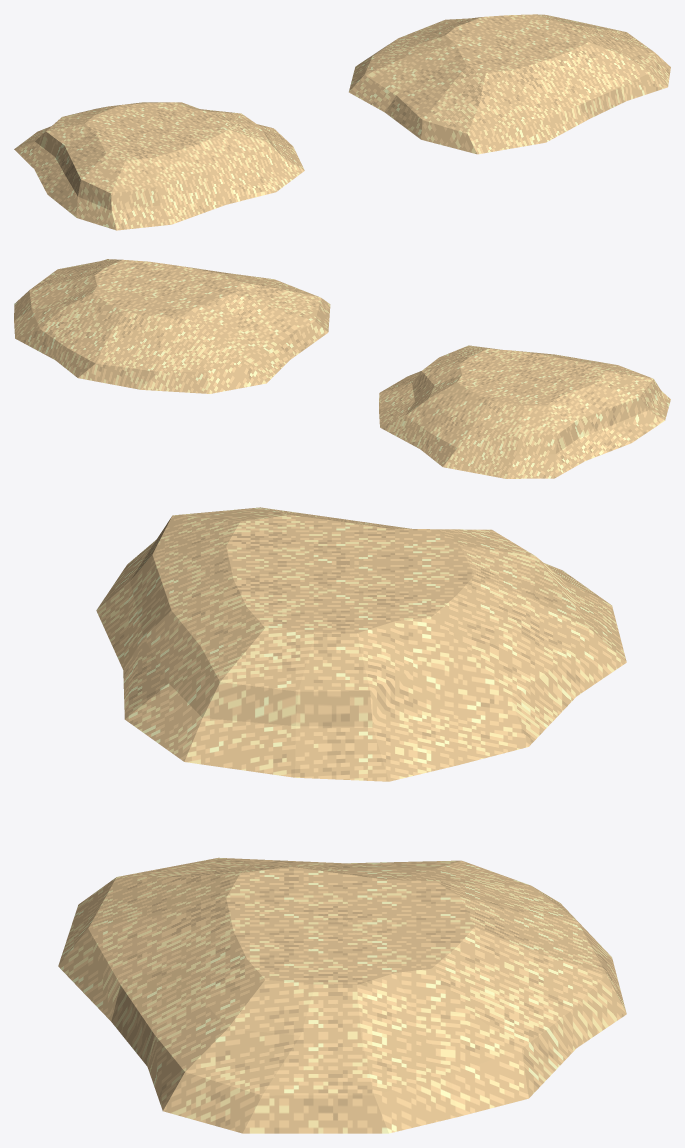
File: SandPile.fbx
3 views of the same model, one above another, from view 1: azimuth 30°, elevation 25°; view 2: azimuth 150°, elevation 25°; view 3: azimuth 270°, elevation 25° (orthographic). The views are drawn at different scales.
Visible parts, largest first — view 1: Cube.001, Cube; view 2: Cube.001, Cube; view 3: Cube.001, Cube.
Part boxes in pixels (x1,y1,x2,y2): Cube.001: [349, 14, 670, 154]; Cube: [14, 102, 304, 230]; Cube.001: [14, 259, 330, 393]; Cube: [379, 345, 670, 478]; Cube.001: [58, 857, 626, 1133]; Cube: [96, 507, 626, 781].
Bounding box in the file's own units: 664 × 41.88 × 272.
